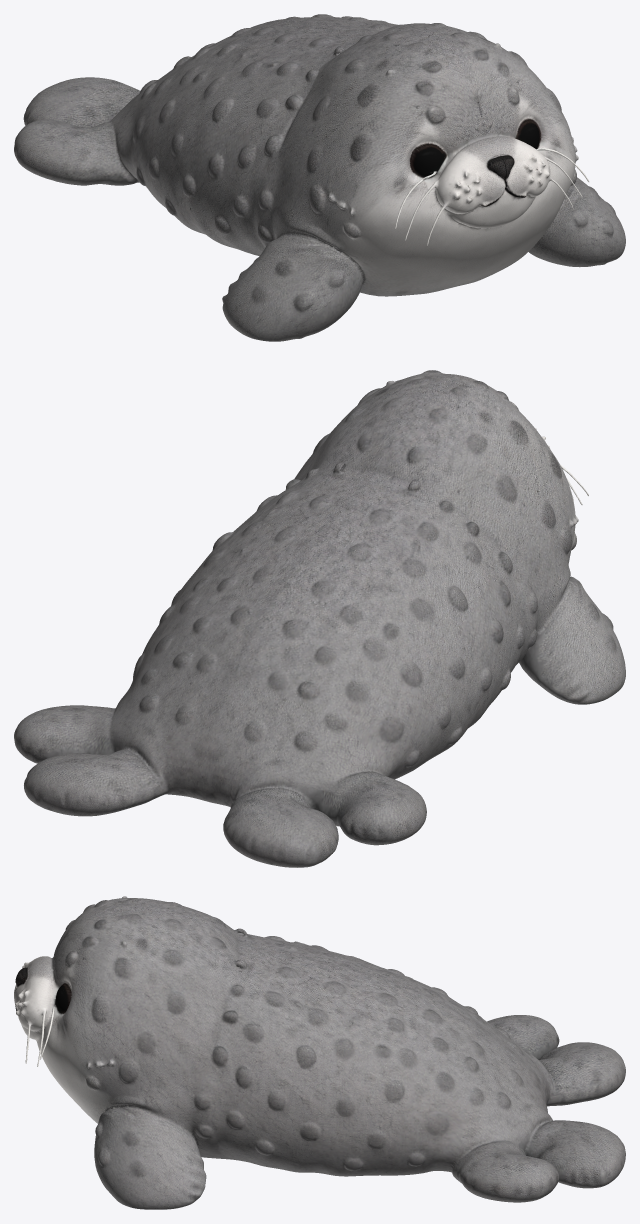
Rendered from seal.glb.
The picture shows the model from 3 angles, top to bottom: view 1: azimuth 30°, elevation 25°; view 2: azimuth 150°, elevation 25°; view 3: azimuth 270°, elevation 25°; orthographic projection. The views are drawn at different scales.
Bounding box in the file's own units: 1.24 × 0.7614 × 1.9.
Materials: 1 (1 with a texture image).
